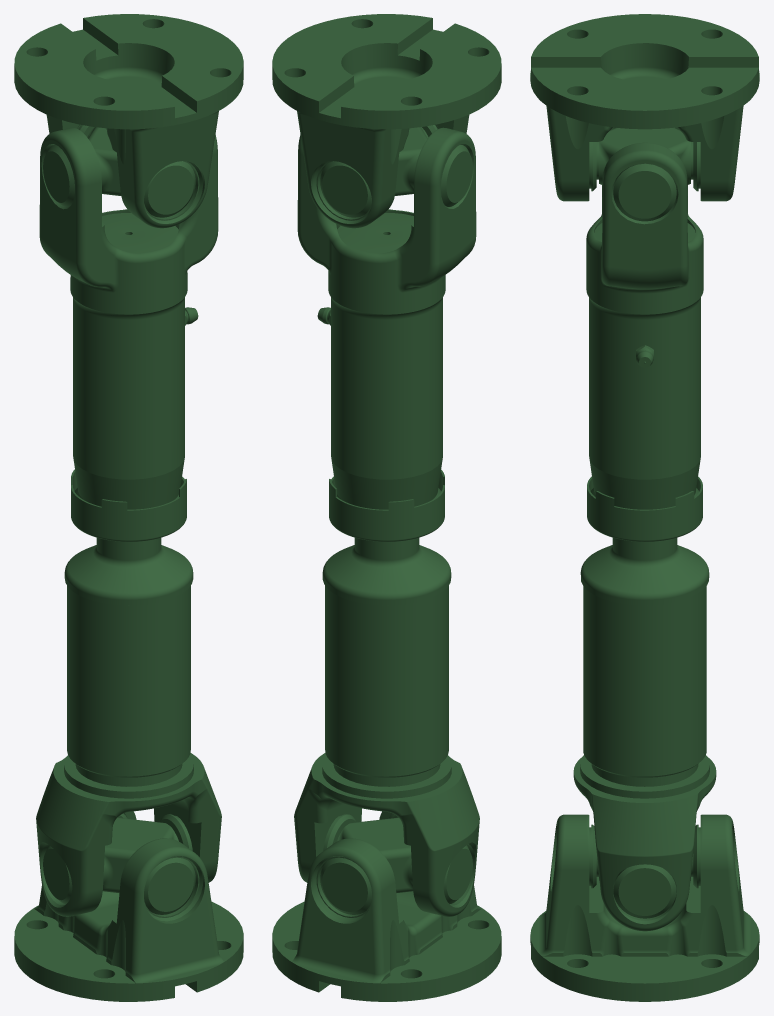
The model's file is product4.glb.
The picture shows the model from 3 angles, left to right: view 1: azimuth 30°, elevation 25°; view 2: azimuth 150°, elevation 25°; view 3: azimuth 270°, elevation 25°; orthographic projection.
Parts seen in each view (by area): view 1: TWB50323-4^TWB50323_01(2)_TWB50323_01-1, TWB50323-1^TWB50323_01(2)_TWB50323_01-2, TWB50323-1^TWB50323_01(2)_TWB50323_01-1, Copy (1) of TWB50323-7^TWB50323_01(2)_TWB50323_01-1, Copy (1) of TWB50323-2^TWB50323_01(2)_TWB50323_01-1, Copy (1) of TWB50323-3^TWB50323_01(2)_TWB50323_01-1, TWB50323-6-2^TWB50323-6_TWB50323_01(2)_TWB50323_01-1 (×2), TWB50323-9^TWB50323_01(2)_TWB50323_01-1, TWB50323-6-1^TWB50323-6_TWB50323_01(2)_TWB50323_01-1 (×2), TWB50323-6-2^TWB50323-6_TWB50323_01(2)_TWB50323_01-2 (×2), TWB50323-5^TWB50323_01(2)_TWB50323_01-1; view 2: TWB50323-4^TWB50323_01(2)_TWB50323_01-1, TWB50323-1^TWB50323_01(2)_TWB50323_01-2, TWB50323-1^TWB50323_01(2)_TWB50323_01-1, Copy (1) of TWB50323-7^TWB50323_01(2)_TWB50323_01-1, Copy (1) of TWB50323-2^TWB50323_01(2)_TWB50323_01-1, Copy (1) of TWB50323-3^TWB50323_01(2)_TWB50323_01-1, TWB50323-6-2^TWB50323-6_TWB50323_01(2)_TWB50323_01-4 (×2), TWB50323-9^TWB50323_01(2)_TWB50323_01-1, TWB50323-6-1^TWB50323-6_TWB50323_01(2)_TWB50323_01-1 (×2), TWB50323-6-2^TWB50323-6_TWB50323_01(2)_TWB50323_01-2 (×2), TWB50323-5^TWB50323_01(2)_TWB50323_01-1; view 3: TWB50323-4^TWB50323_01(2)_TWB50323_01-1, TWB50323-1^TWB50323_01(2)_TWB50323_01-2, TWB50323-1^TWB50323_01(2)_TWB50323_01-1, Copy (1) of TWB50323-7^TWB50323_01(2)_TWB50323_01-1, Copy (1) of TWB50323-2^TWB50323_01(2)_TWB50323_01-1, Copy (1) of TWB50323-3^TWB50323_01(2)_TWB50323_01-1, TWB50323-6-2^TWB50323-6_TWB50323_01(2)_TWB50323_01-3 (×2), TWB50323-9^TWB50323_01(2)_TWB50323_01-1, TWB50323-6-1^TWB50323-6_TWB50323_01(2)_TWB50323_01-1.
Part boxes in pixels (x1,y1,x2,y2): TWB50323-4^TWB50323_01(2)_TWB50323_01-1: [39, 127, 218, 509]; TWB50323-1^TWB50323_01(2)_TWB50323_01-2: [14, 14, 243, 228]; TWB50323-1^TWB50323_01(2)_TWB50323_01-1: [14, 811, 243, 1001]; Copy (1) of TWB50323-7^TWB50323_01(2)_TWB50323_01-1: [67, 585, 190, 777]; Copy (1) of TWB50323-2^TWB50323_01(2)_TWB50323_01-1: [36, 753, 221, 916]; Copy (1) of TWB50323-3^TWB50323_01(2)_TWB50323_01-1: [64, 538, 193, 605]; TWB50323-6-2^TWB50323-6_TWB50323_01(2)_TWB50323_01-1 (×2): [144, 161, 195, 914]; TWB50323-9^TWB50323_01(2)_TWB50323_01-1: [71, 469, 186, 541]; TWB50323-6-1^TWB50323-6_TWB50323_01(2)_TWB50323_01-1 (×2): [87, 127, 178, 893]; TWB50323-6-2^TWB50323-6_TWB50323_01(2)_TWB50323_01-2 (×2): [43, 145, 74, 903]; TWB50323-5^TWB50323_01(2)_TWB50323_01-1: [102, 213, 178, 253]; TWB50323-4^TWB50323_01(2)_TWB50323_01-1: [297, 127, 476, 509]; TWB50323-1^TWB50323_01(2)_TWB50323_01-2: [272, 14, 501, 228]; TWB50323-1^TWB50323_01(2)_TWB50323_01-1: [272, 811, 501, 1001]; Copy (1) of TWB50323-7^TWB50323_01(2)_TWB50323_01-1: [325, 586, 448, 777]; Copy (1) of TWB50323-2^TWB50323_01(2)_TWB50323_01-1: [294, 753, 479, 916]; Copy (1) of TWB50323-3^TWB50323_01(2)_TWB50323_01-1: [322, 538, 451, 605]; TWB50323-6-2^TWB50323-6_TWB50323_01(2)_TWB50323_01-4 (×2): [320, 161, 371, 914]; TWB50323-9^TWB50323_01(2)_TWB50323_01-1: [329, 469, 444, 541]; TWB50323-6-1^TWB50323-6_TWB50323_01(2)_TWB50323_01-1 (×2): [337, 127, 428, 893]; TWB50323-6-2^TWB50323-6_TWB50323_01(2)_TWB50323_01-2 (×2): [441, 145, 472, 903]; TWB50323-5^TWB50323_01(2)_TWB50323_01-1: [337, 213, 413, 253]; TWB50323-4^TWB50323_01(2)_TWB50323_01-1: [586, 127, 703, 509]; TWB50323-1^TWB50323_01(2)_TWB50323_01-2: [530, 14, 759, 201]; TWB50323-1^TWB50323_01(2)_TWB50323_01-1: [530, 814, 759, 1001]; Copy (1) of TWB50323-7^TWB50323_01(2)_TWB50323_01-1: [583, 586, 706, 777]; Copy (1) of TWB50323-2^TWB50323_01(2)_TWB50323_01-1: [573, 755, 716, 931]; Copy (1) of TWB50323-3^TWB50323_01(2)_TWB50323_01-1: [580, 538, 709, 605]; TWB50323-6-2^TWB50323-6_TWB50323_01(2)_TWB50323_01-3 (×2): [613, 163, 676, 918]; TWB50323-9^TWB50323_01(2)_TWB50323_01-1: [587, 476, 702, 541]; TWB50323-6-1^TWB50323-6_TWB50323_01(2)_TWB50323_01-1: [596, 127, 693, 184].
Size of the model in its own units: 0.09 by 0.386 by 0.09.
